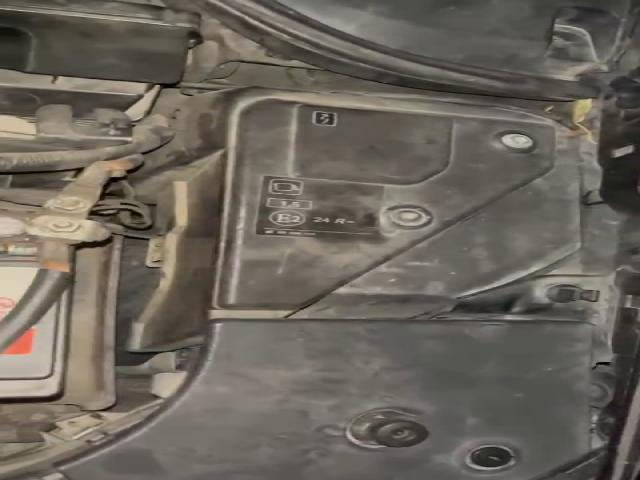accumulator: (0, 185, 90, 403)
fuse_box: (217, 98, 545, 310)
